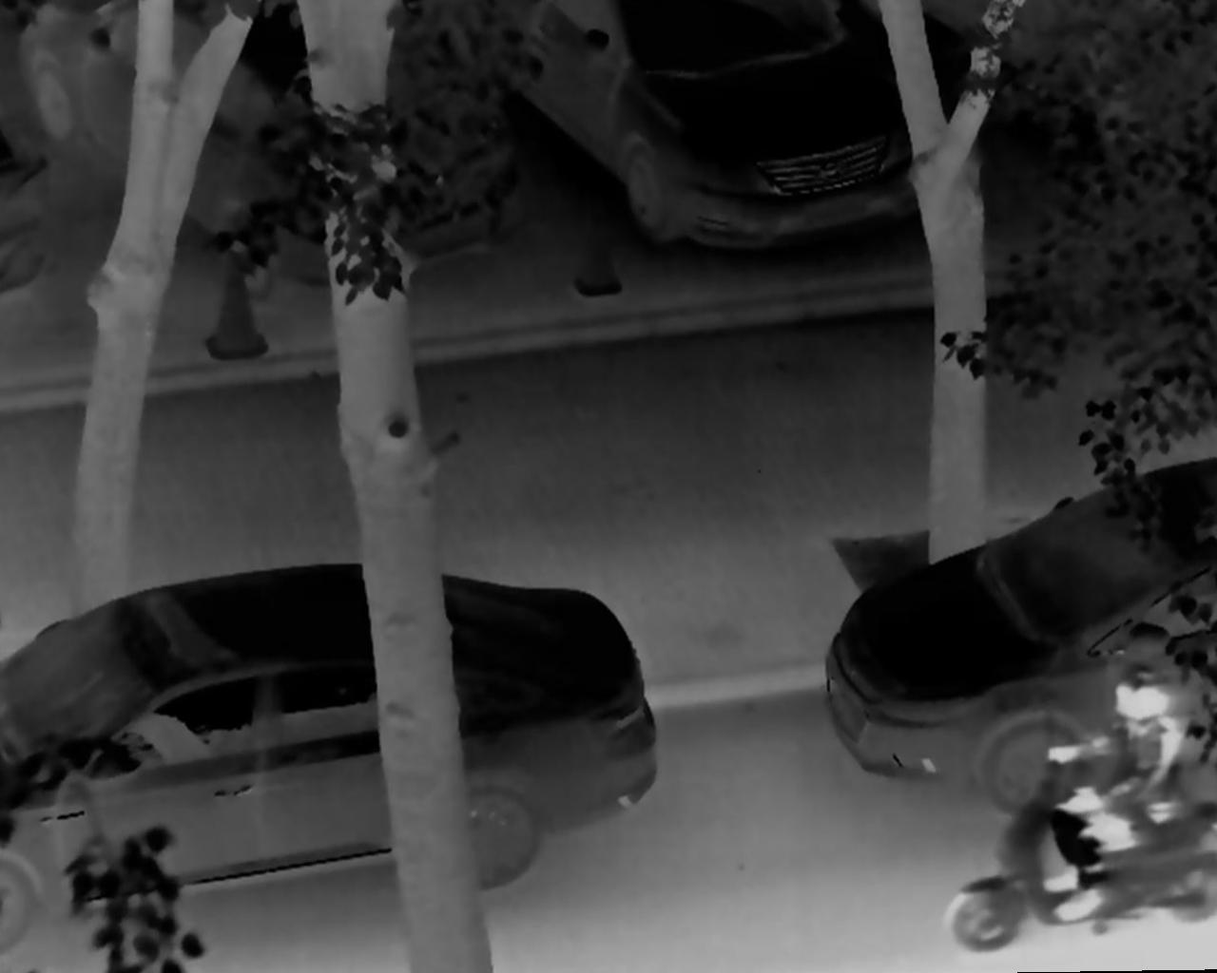person: (1044, 659, 1192, 932)
